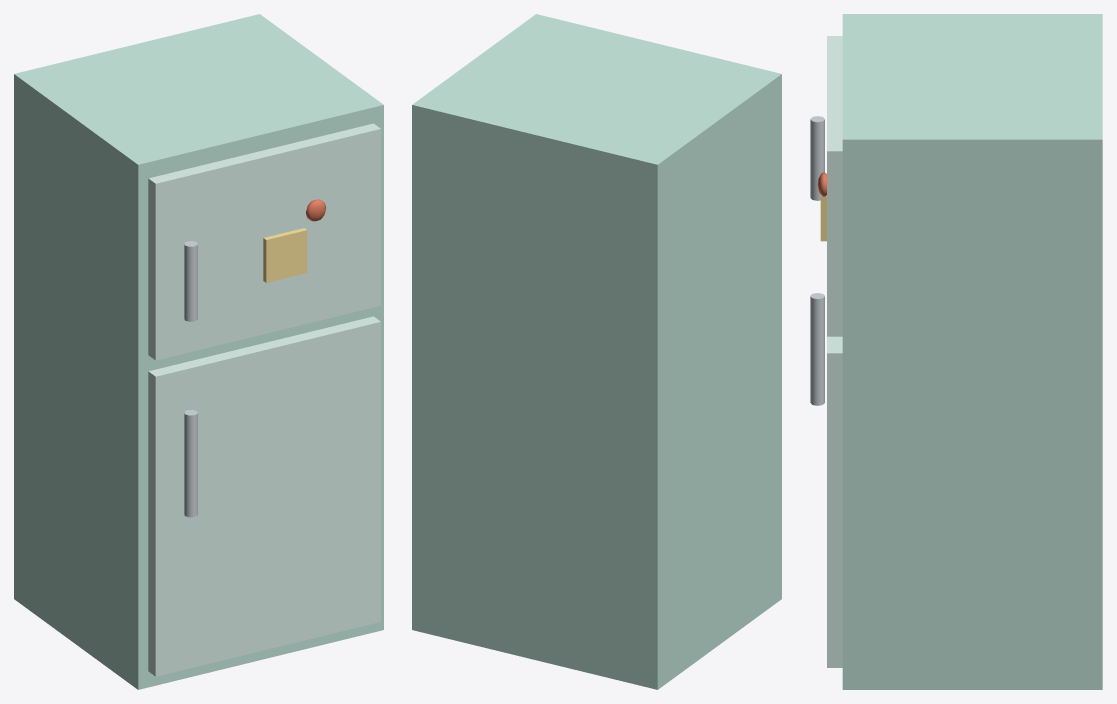
File: station_fridge.glb
3 renders of one model, left to right at view 1: azimuth 30°, elevation 25°; view 2: azimuth 150°, elevation 25°; view 3: azimuth 270°, elevation 25°, orthographic. The views are drawn at different scales.
Visible parts, largest first — view 1: Fridge; view 2: Fridge; view 3: Fridge.
Boxes of the visible parts, box(x1,y1,x2,y2) form: Fridge: box(14, 14, 383, 689); Fridge: box(412, 14, 781, 689); Fridge: box(810, 14, 1102, 689).
Bounding box in the file's own units: 0.96 × 1.96 × 0.944.
